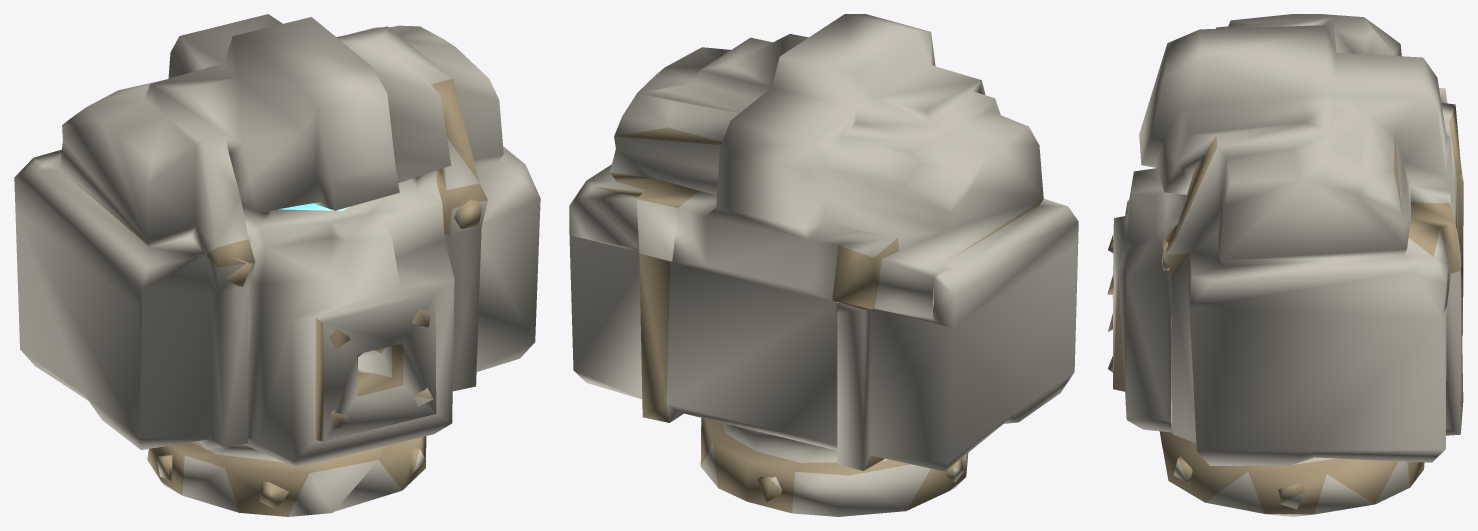
File: GolemHead.glb
The picture shows the model from 3 angles, left to right: view 1: azimuth 30°, elevation 25°; view 2: azimuth 150°, elevation 25°; view 3: azimuth 270°, elevation 25°; orthographic projection. The views are drawn at different scales.
Visible parts, largest first — view 1: PART_GolemHead.004; view 2: PART_GolemHead.004; view 3: PART_GolemHead.004.
Boxes of the visible parts, x1,y1,x2,y2 form: PART_GolemHead.004: [14, 14, 540, 516]; PART_GolemHead.004: [569, 14, 1078, 516]; PART_GolemHead.004: [1107, 14, 1463, 516].
Size of the model in its own units: 1.09 by 1.1 by 0.8549.
